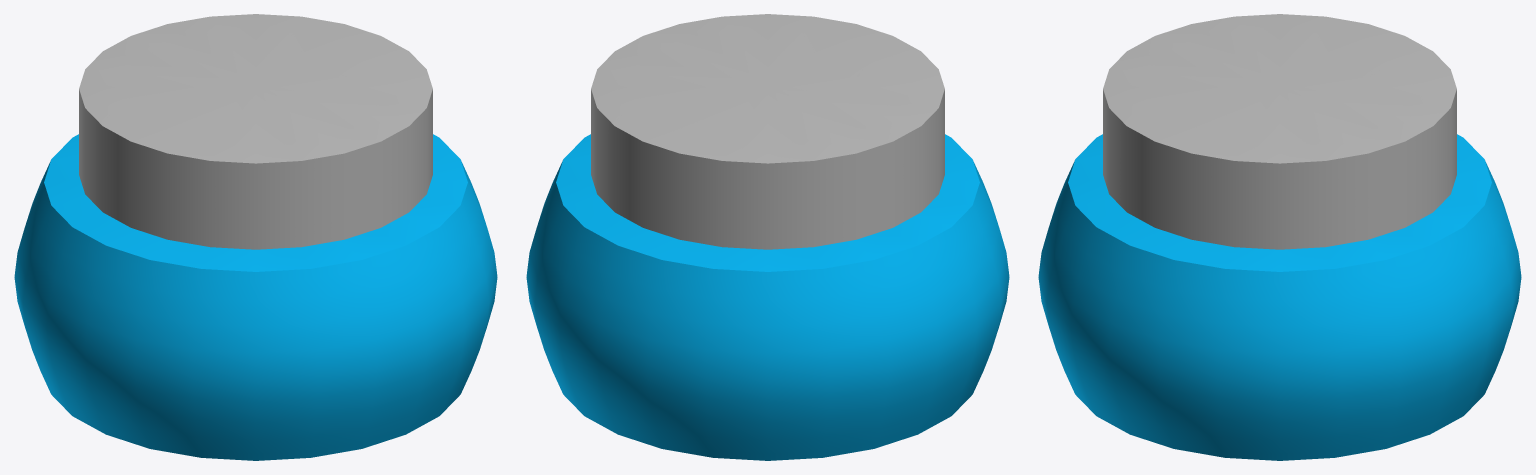
The model's file is cream10.glb.
3 views of the same model, side by side, from view 1: azimuth 30°, elevation 25°; view 2: azimuth 150°, elevation 25°; view 3: azimuth 270°, elevation 25° (orthographic).
Bounding box in the file's own units: 0.4109 × 0.2713 × 0.4109.
